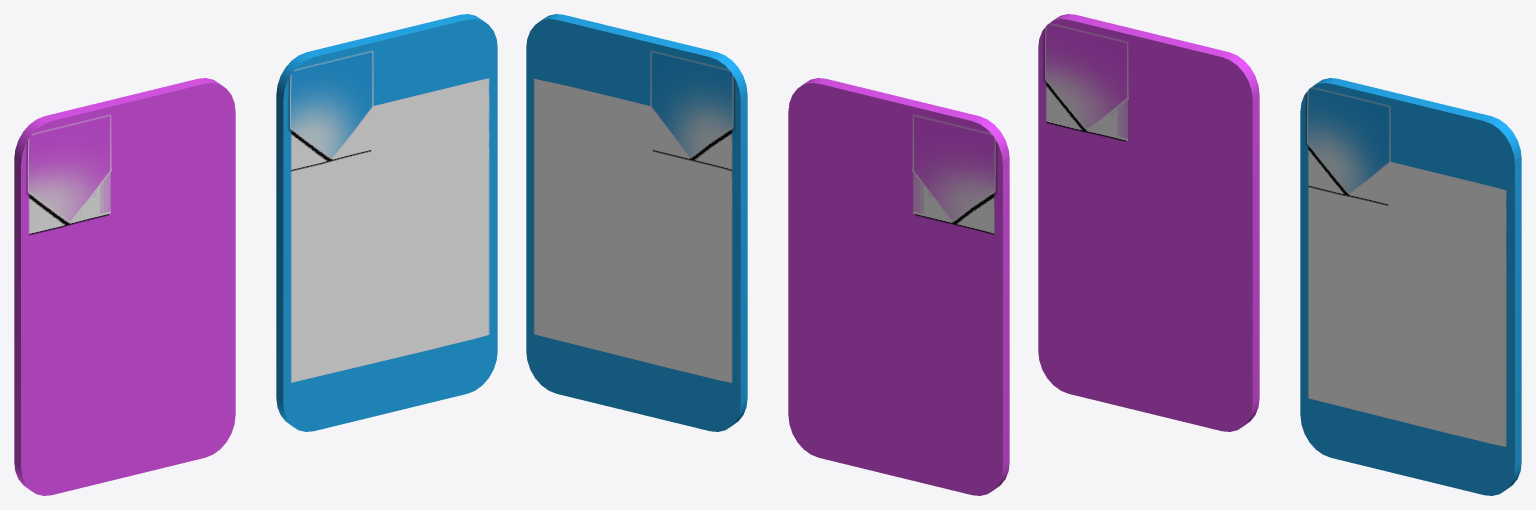
Rendered from cards.fbx.
3 views of the same model, side by side, from view 1: azimuth 30°, elevation 25°; view 2: azimuth 150°, elevation 25°; view 3: azimuth 330°, elevation 25° (orthographic).
Parts seen in each view (by area): view 1: blueCard, pinkCard; view 2: blueCard, pinkCard; view 3: blueCard, pinkCard.
Part boxes in pixels (box(x1,y1,x2,y2)): blueCard: box(276, 14, 497, 431); pinkCard: box(14, 78, 235, 495); blueCard: box(526, 14, 747, 431); pinkCard: box(788, 78, 1009, 495); blueCard: box(1300, 78, 1521, 495); pinkCard: box(1038, 14, 1259, 431).
Size of the model in its own units: 4 by 3 by 0.1.
2 materials, 2 textured.
